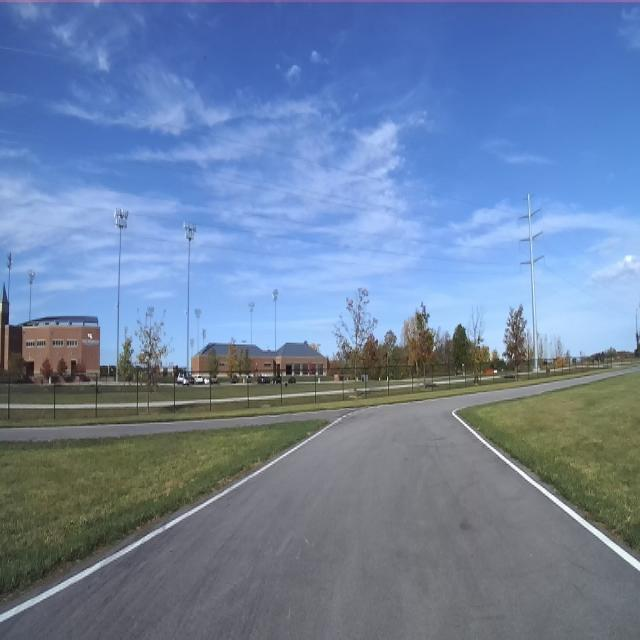white-line: (0, 416, 346, 622), (452, 408, 640, 572)
